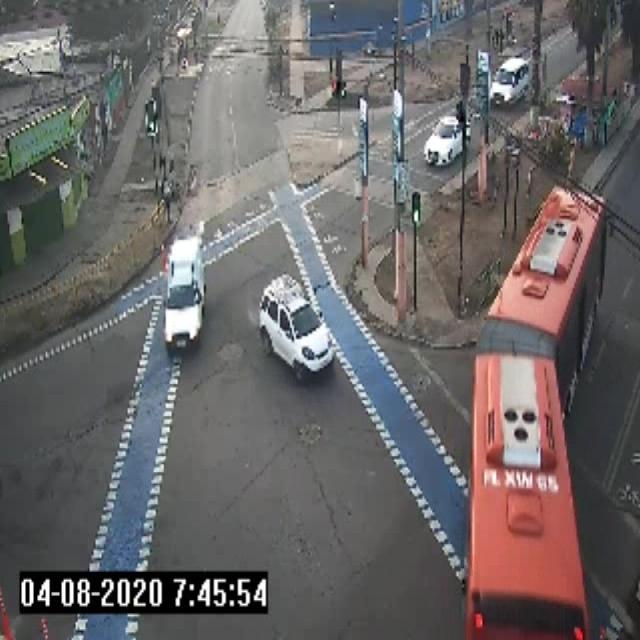AB: (446, 186, 615, 640)
